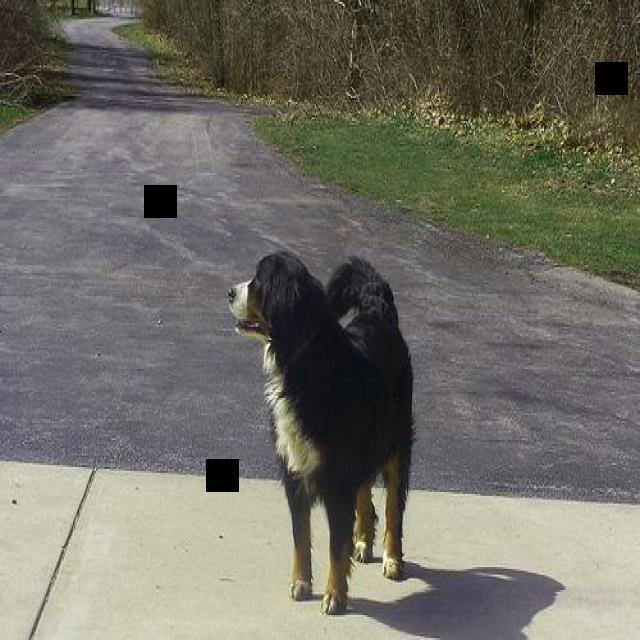adult_dog: (225, 249, 417, 616)
